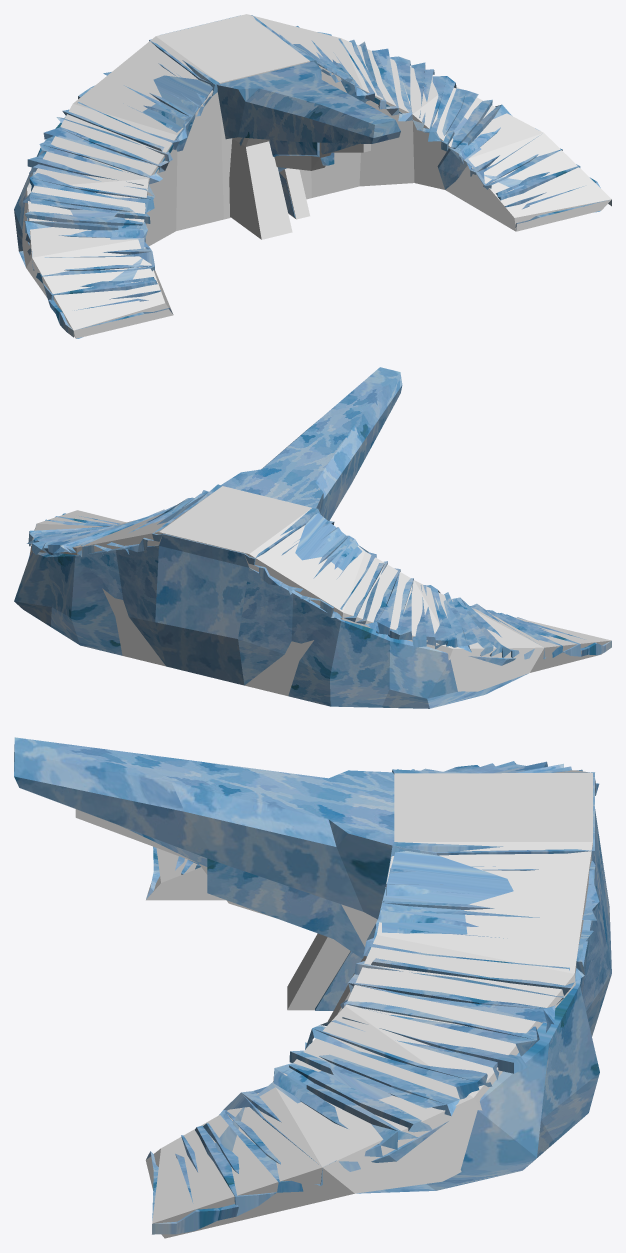
Rendered from cavepedestal 1.fbx.
The picture shows the model from 3 angles, top to bottom: view 1: azimuth 30°, elevation 25°; view 2: azimuth 150°, elevation 25°; view 3: azimuth 270°, elevation 25°; orthographic projection. The views are drawn at different scales.
Visible parts, largest first — view 1: pedestal_col, pedestal; view 2: pedestal, pedestal_col; view 3: pedestal, pedestal_col.
Part boxes in pixels (x1,y1,x2,y2): pedestal_col: (22, 14, 611, 338); pedestal: (14, 15, 611, 338); pedestal: (14, 367, 611, 708); pedestal_col: (29, 486, 611, 695); pedestal: (14, 737, 611, 1234); pedestal_col: (75, 770, 592, 1238).
Size of the model in its own units: 1825 by 611 by 1128.
